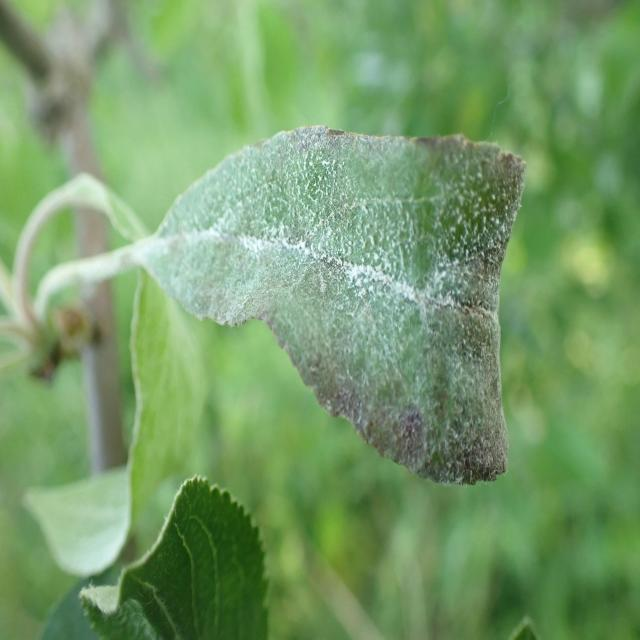Powdery_mildew: (146, 107, 530, 508)
